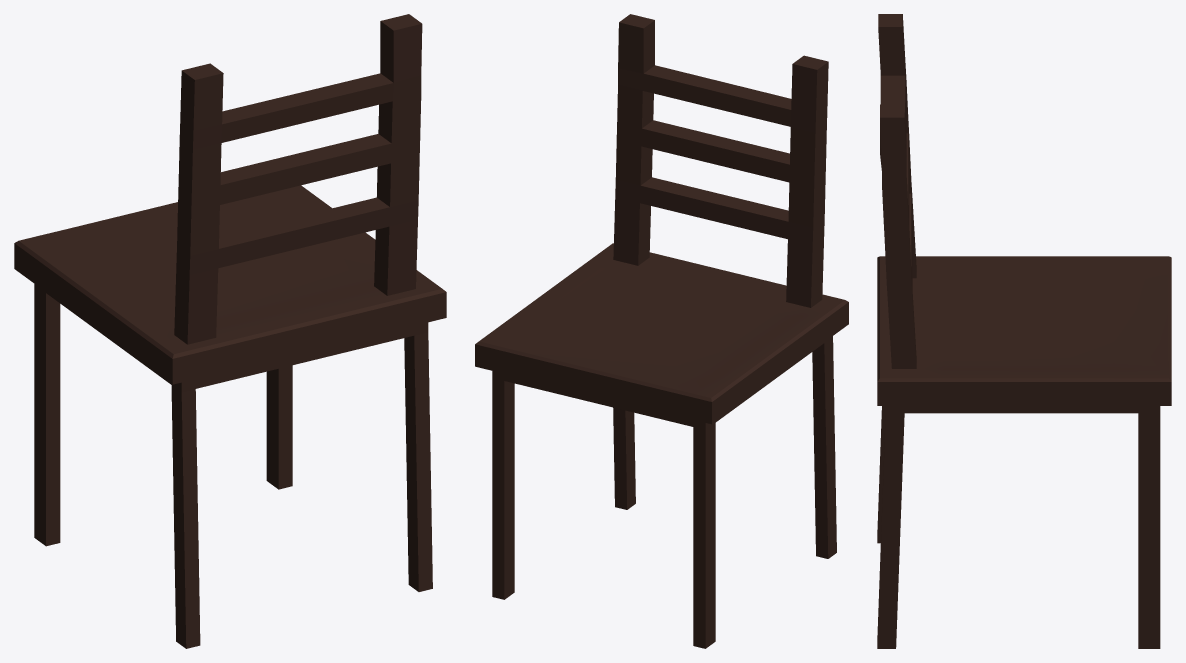
File: chair.fbx
3 renders of one model, left to right at view 1: azimuth 30°, elevation 25°; view 2: azimuth 150°, elevation 25°; view 3: azimuth 270°, elevation 25°, orthographic. The views are drawn at different scales.
Visible parts, largest first — view 1: pCube4; view 2: pCube4; view 3: pCube4.
Boxes of the visible parts, <box> form: pCube4: <box>14,14,446,648</box>; pCube4: <box>475,14,848,648</box>; pCube4: <box>877,14,1171,648</box>.
Bounding box in the file's own units: 20 × 39.48 × 20.
